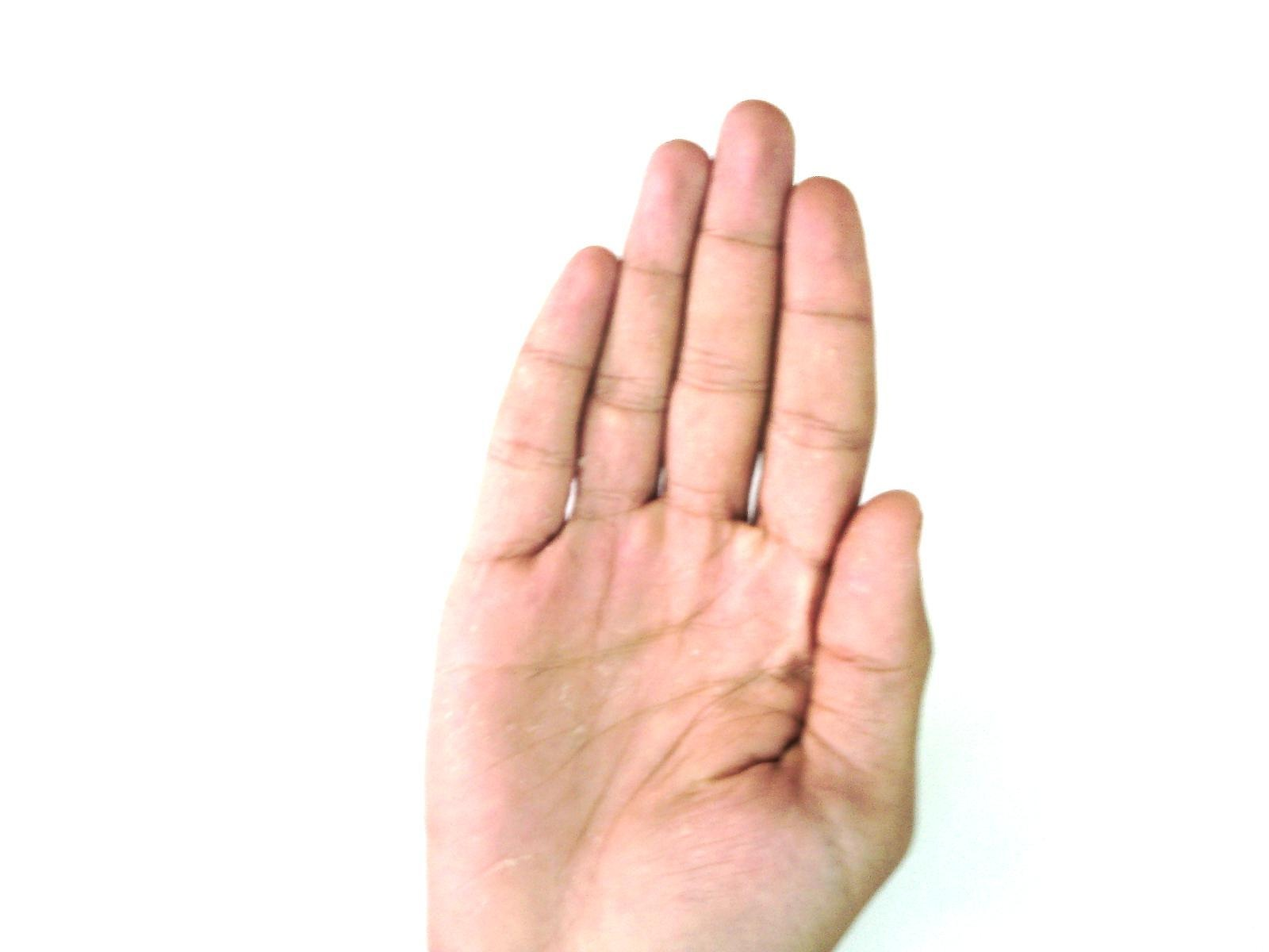open_palm: (420, 98, 936, 951)
